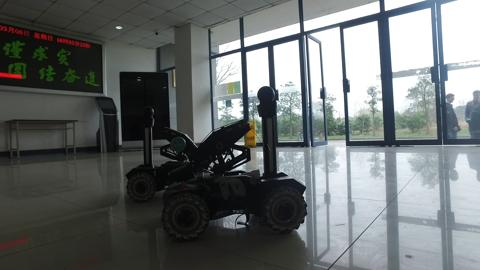chariot: (178, 84, 307, 240), (124, 106, 204, 196)
